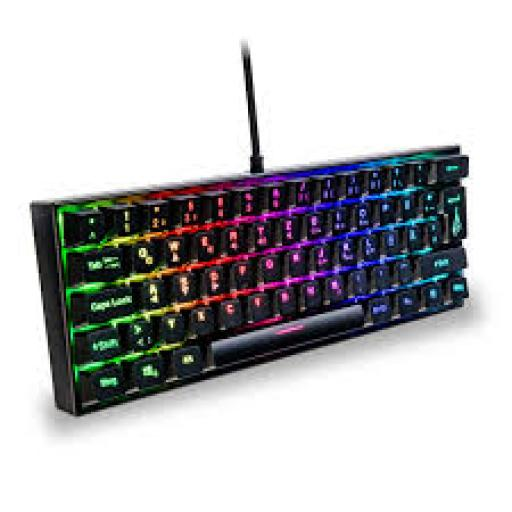KEYBOARD-2: (32, 146, 466, 414)
